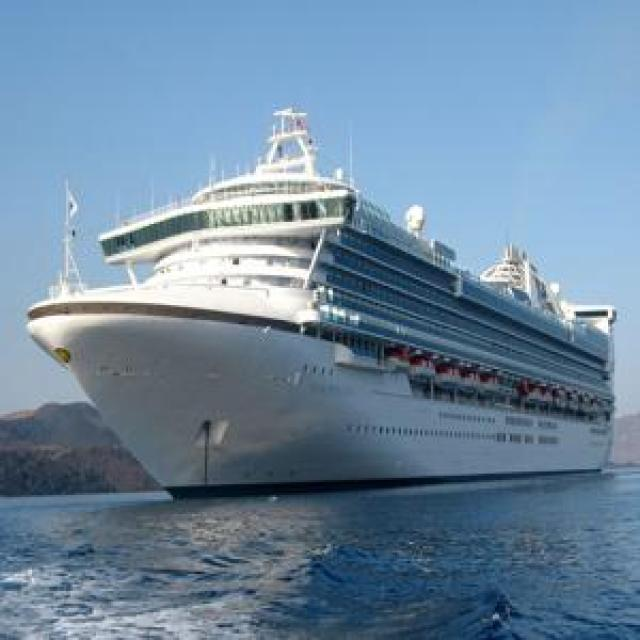passenger ship: (35, 108, 617, 495)
